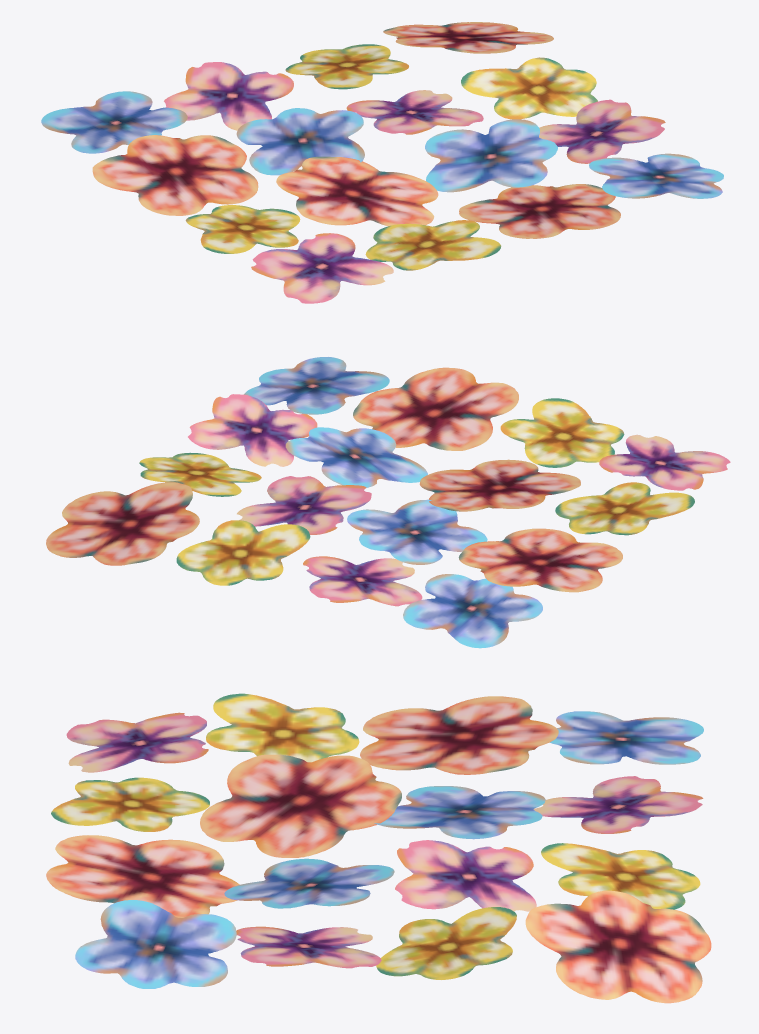
File: FlowerBunch2.fbx
3 views of the same model, one above another, from view 1: azimuth 30°, elevation 25°; view 2: azimuth 150°, elevation 25°; view 3: azimuth 270°, elevation 25° (orthographic). The views are drawn at different scales.
Parts seen in each view (by area): view 1: Flower16, Flower10, Flower4, Flower7, Flower11, Flower8, Flower17, Flower12, Flower15, Flower13, Flower9, Flower2 (+4 smaller); view 2: Flower7, Flower3, Flower16, Flower15, Flower10, Flower5, Flower11, Flower2, Flower4, Flower13, Flower9, Flower6 (+4 smaller); view 3: Flower3, Flower10, Flower16, Flower7, Flower9, Flower6, Flower14, Flower8, Flower15, Flower5, Flower11, Flower17 (+4 smaller).
Part boxes in pixels (left/top/right/bottom): Flower16: left=92, top=135, right=258, bottom=215; Flower10: left=276, top=156, right=438, bottom=226; Flower4: left=425, top=119, right=557, bottom=192; Flower7: left=459, top=184, right=620, bottom=238; Flower11: left=236, top=108, right=364, bottom=175; Flower8: left=461, top=57, right=597, bottom=119; Flower17: left=251, top=233, right=393, bottom=303; Flower12: left=164, top=62, right=293, bottom=130; Flower15: left=41, top=91, right=187, bottom=153; Flower13: left=365, top=220, right=501, bottom=270; Flower9: left=589, top=153, right=723, bottom=198; Flower2: left=539, top=99, right=665, bottom=163; Flower7: left=353, top=367, right=518, bottom=450; Flower3: left=46, top=482, right=199, bottom=565; Flower16: left=458, top=528, right=622, bottom=592; Flower15: left=403, top=574, right=542, bottom=648; Flower10: left=419, top=459, right=580, bottom=511; Flower5: left=176, top=520, right=310, bottom=585; Flower11: left=347, top=499, right=487, bottom=564; Flower2: left=188, top=394, right=317, bottom=466; Flower4: left=285, top=427, right=427, bottom=487; Flower13: left=500, top=398, right=624, bottom=467; Flower9: left=244, top=357, right=389, bottom=414; Flower6: left=237, top=476, right=371, bottom=534; Flower3: left=525, top=890, right=711, bottom=1003; Flower10: left=200, top=754, right=401, bottom=857; Flower16: left=360, top=696, right=558, bottom=774; Flower7: left=46, top=835, right=239, bottom=917; Flower9: left=75, top=900, right=236, bottom=988; Flower6: left=395, top=840, right=536, bottom=911; Flower14: left=206, top=693, right=359, bottom=762; Flower8: left=376, top=907, right=516, bottom=979; Flower15: left=549, top=711, right=703, bottom=764; Flower5: left=541, top=843, right=700, bottom=909; Flower11: left=374, top=786, right=545, bottom=839; Flower17: left=66, top=712, right=208, bottom=772.
Bounding box in the file's own units: 1.57 × 0.1559 × 1.58.
